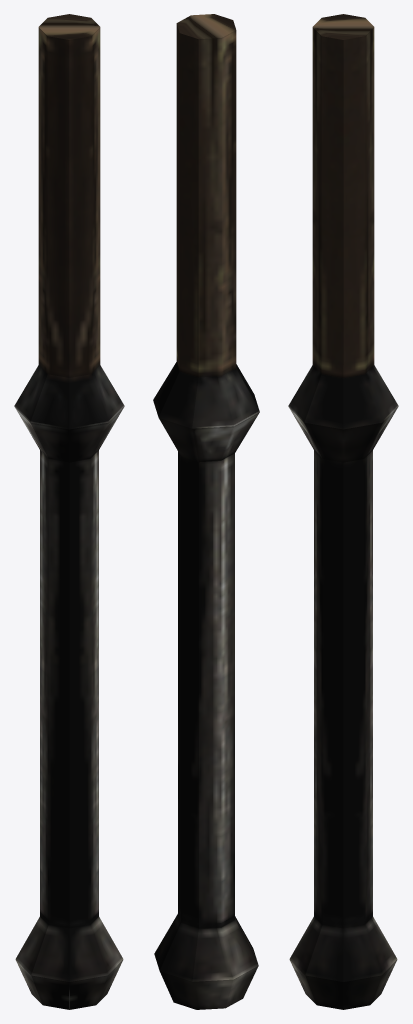
Rendered from Mace_grip_default.FBX.
The picture shows the model from 3 angles, left to right: view 1: azimuth 90°, elevation 25°; view 2: azimuth 210°, elevation 25°; view 3: azimuth 270°, elevation 25°; orthographic projection.
Parts seen in each view (by area): view 1: Mace_grip_default; view 2: Mace_grip_default; view 3: Mace_grip_default.
Part boxes in pixels (x1,y1,x2,y2): Mace_grip_default: (14,14,124,1009); Mace_grip_default: (153,14,259,1009); Mace_grip_default: (288,14,398,1009).
Bounding box in the file's own units: 7.35 × 70.92 × 7.35.
1 material, 1 textured.
